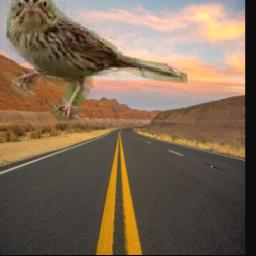Sparrow: (3, 0, 187, 121)
